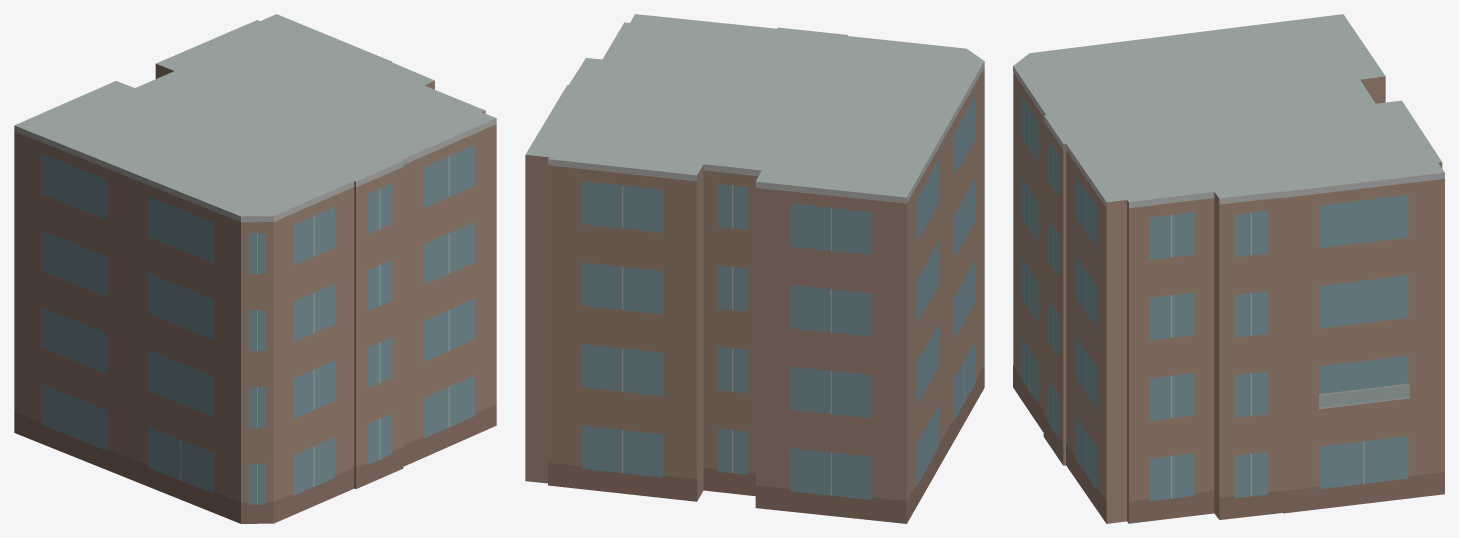
File: survey-upis-32629030.glb
3 views of the same model, side by side, from view 1: azimuth 30°, elevation 25°; view 2: azimuth 150°, elevation 25°; view 3: azimuth 270°, elevation 25° (orthographic). The views are drawn at different scales.
Visible parts, largest first — view 1: survey-upis-32629030.tmp; view 2: survey-upis-32629030.tmp; view 3: survey-upis-32629030.tmp.
Boxes of the visible parts, bbox=[...] form: survey-upis-32629030.tmp: bbox=[14, 14, 496, 523]; survey-upis-32629030.tmp: bbox=[525, 14, 984, 523]; survey-upis-32629030.tmp: bbox=[1013, 14, 1444, 523].
Size of the model in its own units: 16.22 by 12.9 by 15.71.
